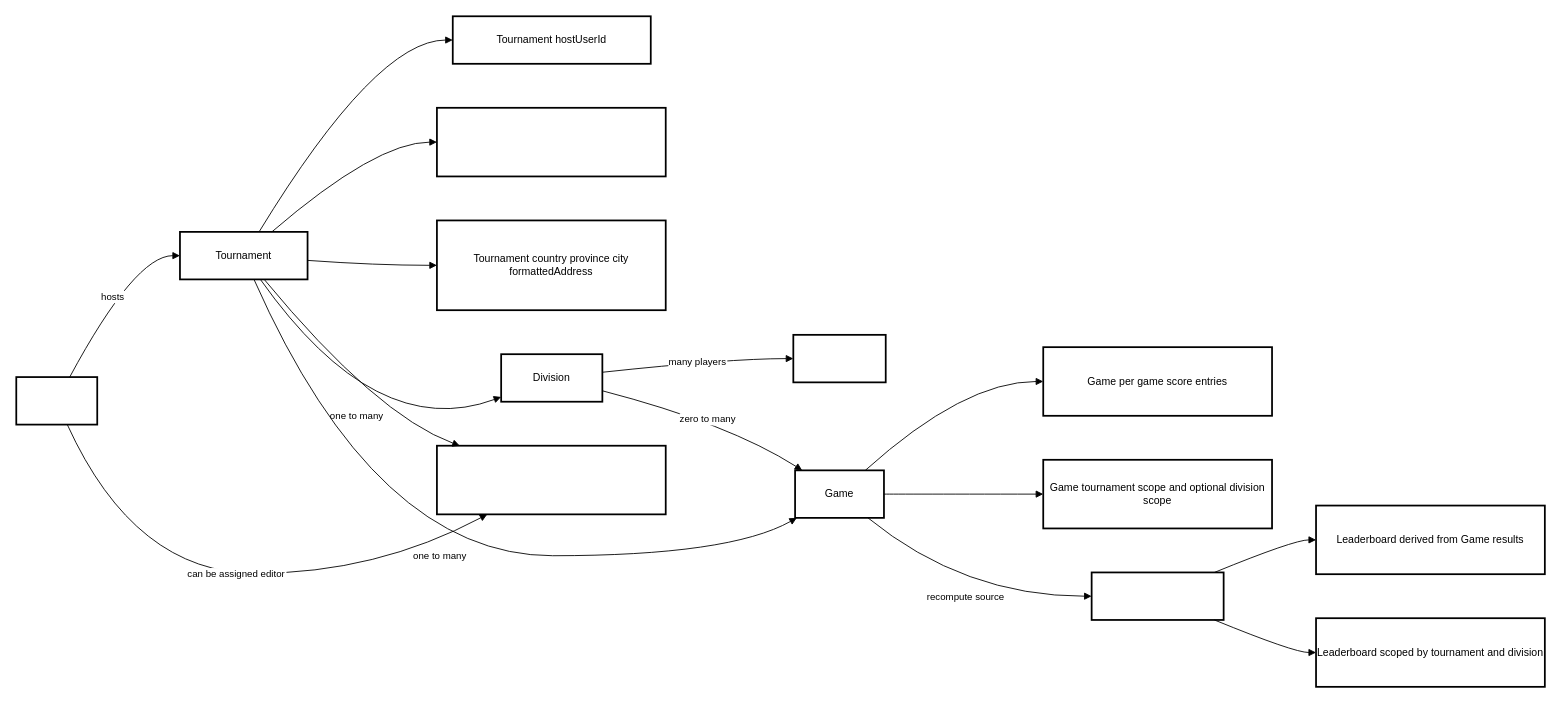
This 1560x702 diagram has some shape labels left out. The centre of each missing label's shape, as x and y in pixels:
Leaderboard: pixel 1157 595
Player: pixel 839 358
Tournament location Point coordinates lng lat: pixel 551 141
Tournament scoreEditorUserIds max 2: pixel 551 479
User: pixel 56 400
